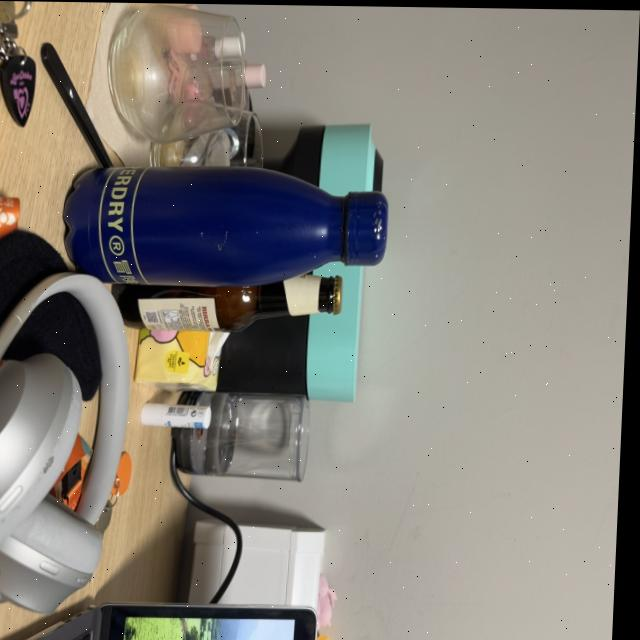beer: (107, 254, 350, 337)
